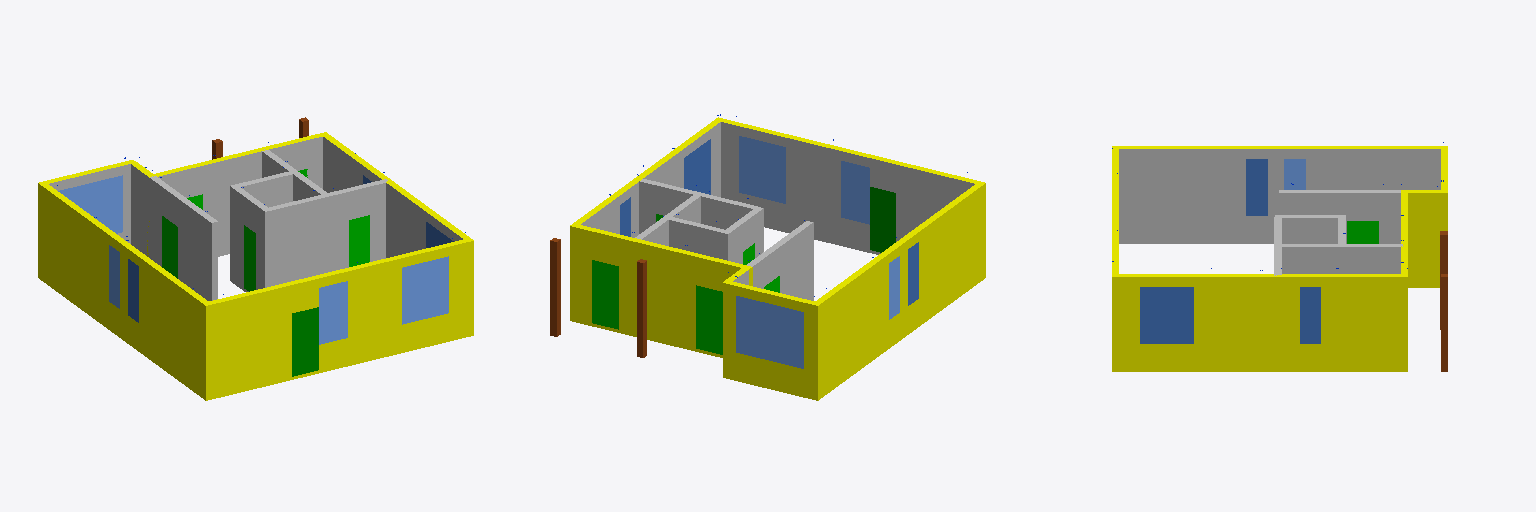
The model's file is wall_coordinates_inverted_3d.obj.
The picture shows the model from 3 angles: view 1: azimuth 30°, elevation 25°; view 2: azimuth 150°, elevation 25°; view 3: azimuth 270°, elevation 25°; orthographic projection.
Parts seen in each view (by area): view 1: Building_Outline_Merged, Internal_Wall_wall_junction_8_to_9_left, Internal_Wall_wall_door_4_top_33_to_1, Internal_window_window_2, Internal_window_window_1, External_door_door_2, Internal_window_window_4, Internal_Wall_wall_door_5_right_24_to_9, Internal_Wall_wall_door_6_bottom_37_to_2, Fill_Below_window_2, Internal_Wall_wall_door_5_left_17_to_12, Internal_Wall_wall_junction_2_to_13_left (+17 smaller); view 2: Building_Outline_Merged, Internal_window_window_1, Internal_window_window_2, Internal_Wall_wall_door_4_top_33_to_1, Fill_Below_window_1, Internal_door_door_3, Internal_door_door_1, Internal_Wall_wall_junction_2_to_13_left, Internal_window_window_4, External_door_door_2, Internal_Wall_wall_junction_8_to_9_left, External_window_window_3 (+17 smaller); view 3: Building_Outline_Merged, External_window_window_3, Internal_Wall_wall_junction_9_to_13_down, Internal_Wall_wall_junction_11_to_13_up, Internal_Wall_wall_door_4_top_33_to_1, Fill_Below_window_3, External_window_window_6, External_window_window_5, Internal_Wall_wall_door_4_bottom_39_to_10, Fill_Above_door_4, Internal_door_door_4, Fill_Above_window_3 (+6 smaller).
Boxes of the visible parts, x1=… form: Building_Outline_Merged: x1=38, y1=132, x2=473, y2=400; Internal_Wall_wall_junction_8_to_9_left: x1=265, y1=194, x2=329, y2=286; Internal_Wall_wall_door_4_top_33_to_1: x1=178, y1=197, x2=217, y2=300; Internal_window_window_2: x1=402, y1=256, x2=448, y2=324; Internal_window_window_1: x1=58, y1=175, x2=122, y2=233; External_door_door_2: x1=292, y1=307, x2=318, y2=376; Internal_window_window_4: x1=319, y1=281, x2=347, y2=344; Internal_Wall_wall_door_5_right_24_to_9: x1=328, y1=189, x2=348, y2=271; Internal_Wall_wall_door_6_bottom_37_to_2: x1=230, y1=184, x2=249, y2=290; Fill_Below_window_2: x1=402, y1=313, x2=448, y2=352; Internal_Wall_wall_door_5_left_17_to_12: x1=367, y1=179, x2=387, y2=261; Internal_Wall_wall_junction_2_to_13_left: x1=237, y1=171, x2=295, y2=207; Building_Outline_Merged: x1=570, y1=117, x2=985, y2=400; Internal_window_window_1: x1=736, y1=296, x2=803, y2=368; Internal_window_window_2: x1=739, y1=136, x2=785, y2=203; Internal_Wall_wall_door_4_top_33_to_1: x1=773, y1=221, x2=813, y2=300; Fill_Below_window_1: x1=736, y1=353, x2=803, y2=397; Internal_door_door_3: x1=592, y1=260, x2=618, y2=329; Internal_door_door_1: x1=696, y1=285, x2=722, y2=354; Internal_Wall_wall_junction_2_to_13_left: x1=665, y1=216, x2=726, y2=259; Internal_window_window_4: x1=841, y1=161, x2=869, y2=224; External_door_door_2: x1=870, y1=187, x2=895, y2=252; Internal_Wall_wall_junction_8_to_9_left: x1=697, y1=192, x2=757, y2=229; External_window_window_3: x1=684, y1=139, x2=710, y2=194; Building_Outline_Merged: x1=1112, y1=146, x2=1447, y2=371; External_window_window_3: x1=1140, y1=287, x2=1193, y2=343; Internal_Wall_wall_junction_9_to_13_down: x1=1282, y1=244, x2=1342, y2=273; Internal_Wall_wall_junction_11_to_13_up: x1=1343, y1=244, x2=1402, y2=273; Internal_Wall_wall_door_4_top_33_to_1: x1=1279, y1=190, x2=1346, y2=243; Fill_Below_window_3: x1=1140, y1=344, x2=1193, y2=371; External_window_window_6: x1=1246, y1=159, x2=1267, y2=215; External_window_window_5: x1=1300, y1=287, x2=1320, y2=343; Internal_Wall_wall_door_4_bottom_39_to_10: x1=1379, y1=190, x2=1400, y2=243; Fill_Above_door_4: x1=1347, y1=190, x2=1378, y2=220; Internal_door_door_4: x1=1347, y1=221, x2=1378, y2=243; Fill_Above_window_3: x1=1140, y1=274, x2=1193, y2=286.
Bounding box in the file's own units: 8.87 × 3.2 × 9.64.